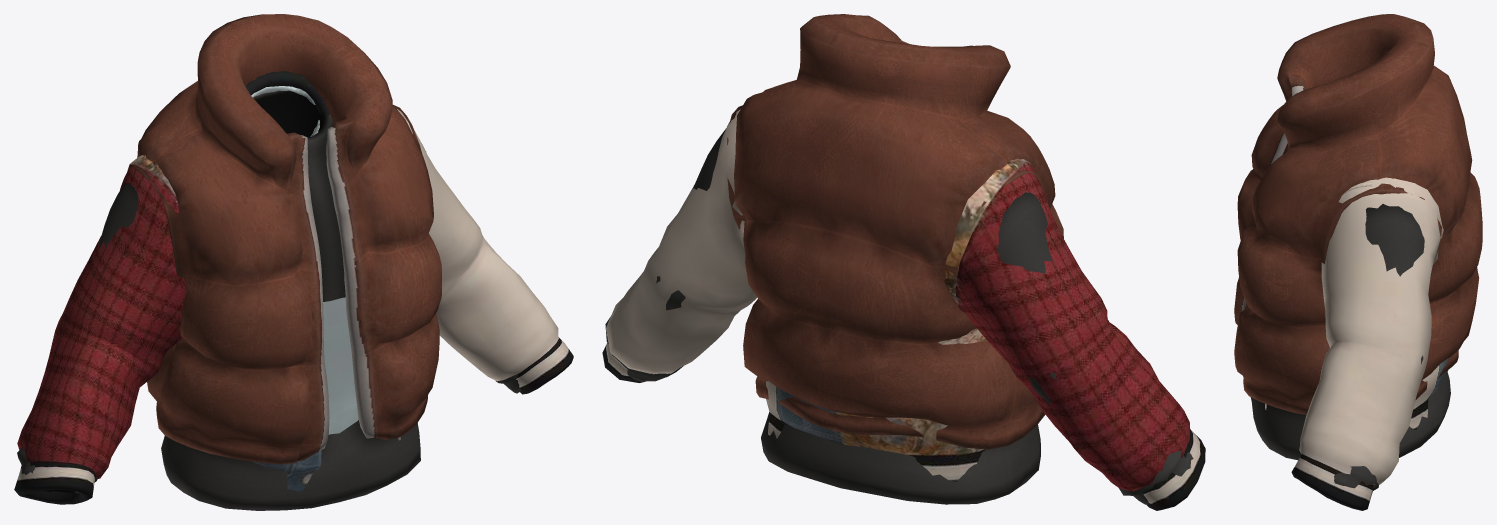
3 renders of one model, left to right at view 1: azimuth 30°, elevation 25°; view 2: azimuth 150°, elevation 25°; view 3: azimuth 270°, elevation 25°, orthographic. The views are drawn at different scales.
Visible parts, largest first — view 1: Wolf3D_Outfit_Top.001, Wolf3D_Outfit_Top; view 2: Wolf3D_Outfit_Top.001, Wolf3D_Outfit_Top; view 3: Wolf3D_Outfit_Top.001, Wolf3D_Outfit_Top.
Boxes of the visible parts, x1=… form: Wolf3D_Outfit_Top.001: x1=17, y1=14, x2=520, y2=510; Wolf3D_Outfit_Top: x1=14, y1=71, x2=573, y2=504; Wolf3D_Outfit_Top.001: x1=605, y1=14, x2=1193, y2=504; Wolf3D_Outfit_Top: x1=602, y1=109, x2=1205, y2=510; Wolf3D_Outfit_Top.001: x1=1234, y1=14, x2=1482, y2=490; Wolf3D_Outfit_Top: x1=1265, y1=72, x2=1448, y2=510.
Size of the model in its own units: 1.01 by 0.7475 by 0.4352.
Materials: 2 (2 with a texture image).
